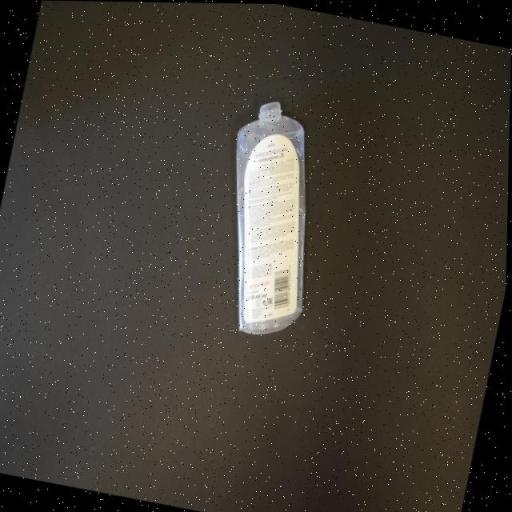plastic: (200, 94, 342, 344)
